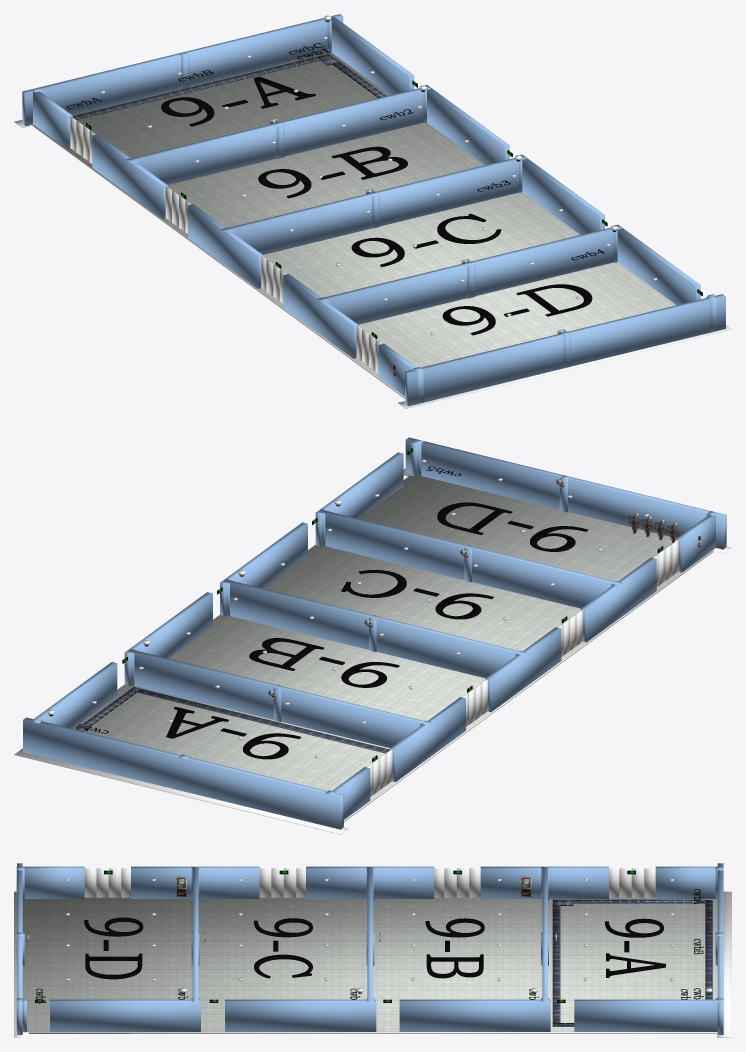
The model's file is cwb_1f_mini.gltf.
3 views of the same model, one above another, from view 1: azimuth 30°, elevation 25°; view 2: azimuth 150°, elevation 25°; view 3: azimuth 270°, elevation 25° (orthographic). The views are drawn at different scales.
Parts seen in each view (by area): view 1: cwb_dimian, cwb_qiang, cwb_qiang_1, cwb_qiang_4, cwb_qiang_2, cwb_qiang_3, cwb_qiang_11, cwb_qiang_14, cwb_qiang_12, cwb_qiang_13, cwb_qiang_8, cwb_qiang_7 (+10 smaller); view 2: cwb_dimian, cwb_qiang_1, cwb_qiang, cwb_qiang_4, cwb_qiang_2, cwb_qiang_3, cwb_qiang_6, cwb_qiang_8, cwb_qiang_7, cwb_qiang_13, cwb_qiang_11, cwb_qiang_12 (+10 smaller); view 3: cwb_dimian, cwb_qiang_12, cwb_qiang_13, cwb_qiang_11, cwb_qiang_14, cwb_qiang_7, cwb_qiang_8, cwb_qiang_6, cwb_qiang_9, cwb_qiang_5, cwb_waiguan_1_2, cwb_waiguan_1_1 (+23 smaller).
Boxes of the visible parts, x1=… form: cwb_dimian: x1=33, y1=52, x2=718, y2=404; cwb_qiang: x1=405, y1=294, x2=725, y2=406; cwb_qiang_1: x1=22, y1=14, x2=343, y2=126; cwb_qiang_4: x1=317, y1=225, x2=620, y2=324; cwb_qiang_2: x1=126, y1=86, x2=430, y2=184; cwb_qiang_3: x1=221, y1=156, x2=525, y2=254; cwb_qiang_11: x1=614, y1=224, x2=700, y2=305; cwb_qiang_14: x1=331, y1=17, x2=414, y2=94; cwb_qiang_12: x1=520, y1=154, x2=604, y2=234; cwb_qiang_13: x1=424, y1=85, x2=509, y2=164; cwb_qiang_8: x1=283, y1=273, x2=358, y2=358; cwb_qiang_7: x1=188, y1=204, x2=263, y2=288; cwb_dimian: x1=73, y1=475, x2=715, y2=820; cwb_qiang_1: x1=23, y1=717, x2=343, y2=829; cwb_qiang: x1=405, y1=437, x2=726, y2=549; cwb_qiang_4: x1=318, y1=509, x2=622, y2=608; cwb_qiang_2: x1=127, y1=649, x2=431, y2=748; cwb_qiang_3: x1=223, y1=579, x2=527, y2=678; cwb_qiang_6: x1=390, y1=697, x2=465, y2=781; cwb_qiang_8: x1=581, y1=557, x2=656, y2=642; cwb_qiang_7: x1=485, y1=627, x2=561, y2=712; cwb_qiang_13: x1=124, y1=592, x2=212, y2=685; cwb_qiang_11: x1=315, y1=452, x2=403, y2=546; cwb_qiang_12: x1=220, y1=522, x2=307, y2=616; cwb_dimian: x1=16, y1=897, x2=717, y2=1032; cwb_qiang_12: x1=225, y1=999, x2=376, y2=1031; cwb_qiang_13: x1=399, y1=999, x2=550, y2=1031; cwb_qiang_11: x1=50, y1=999, x2=200, y2=1031; cwb_qiang_14: x1=574, y1=999, x2=720, y2=1031; cwb_qiang_7: x1=306, y1=866, x2=434, y2=898; cwb_qiang_8: x1=131, y1=866, x2=259, y2=898; cwb_qiang_6: x1=480, y1=866, x2=608, y2=898; cwb_qiang_9: x1=22, y1=866, x2=84, y2=898; cwb_qiang_5: x1=655, y1=866, x2=717, y2=898; cwb_waiguan_1_2: x1=29, y1=1032, x2=716, y2=1033; cwb_waiguan_1_1: x1=717, y1=891, x2=731, y2=1037.
Bounding box in the file's own units: 102 × 12.49 × 211.
19 materials, 14 textured.
